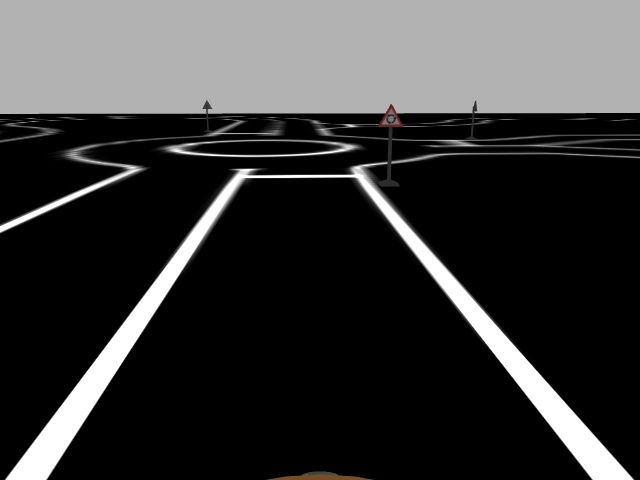roundabout: (377, 104, 403, 128)
